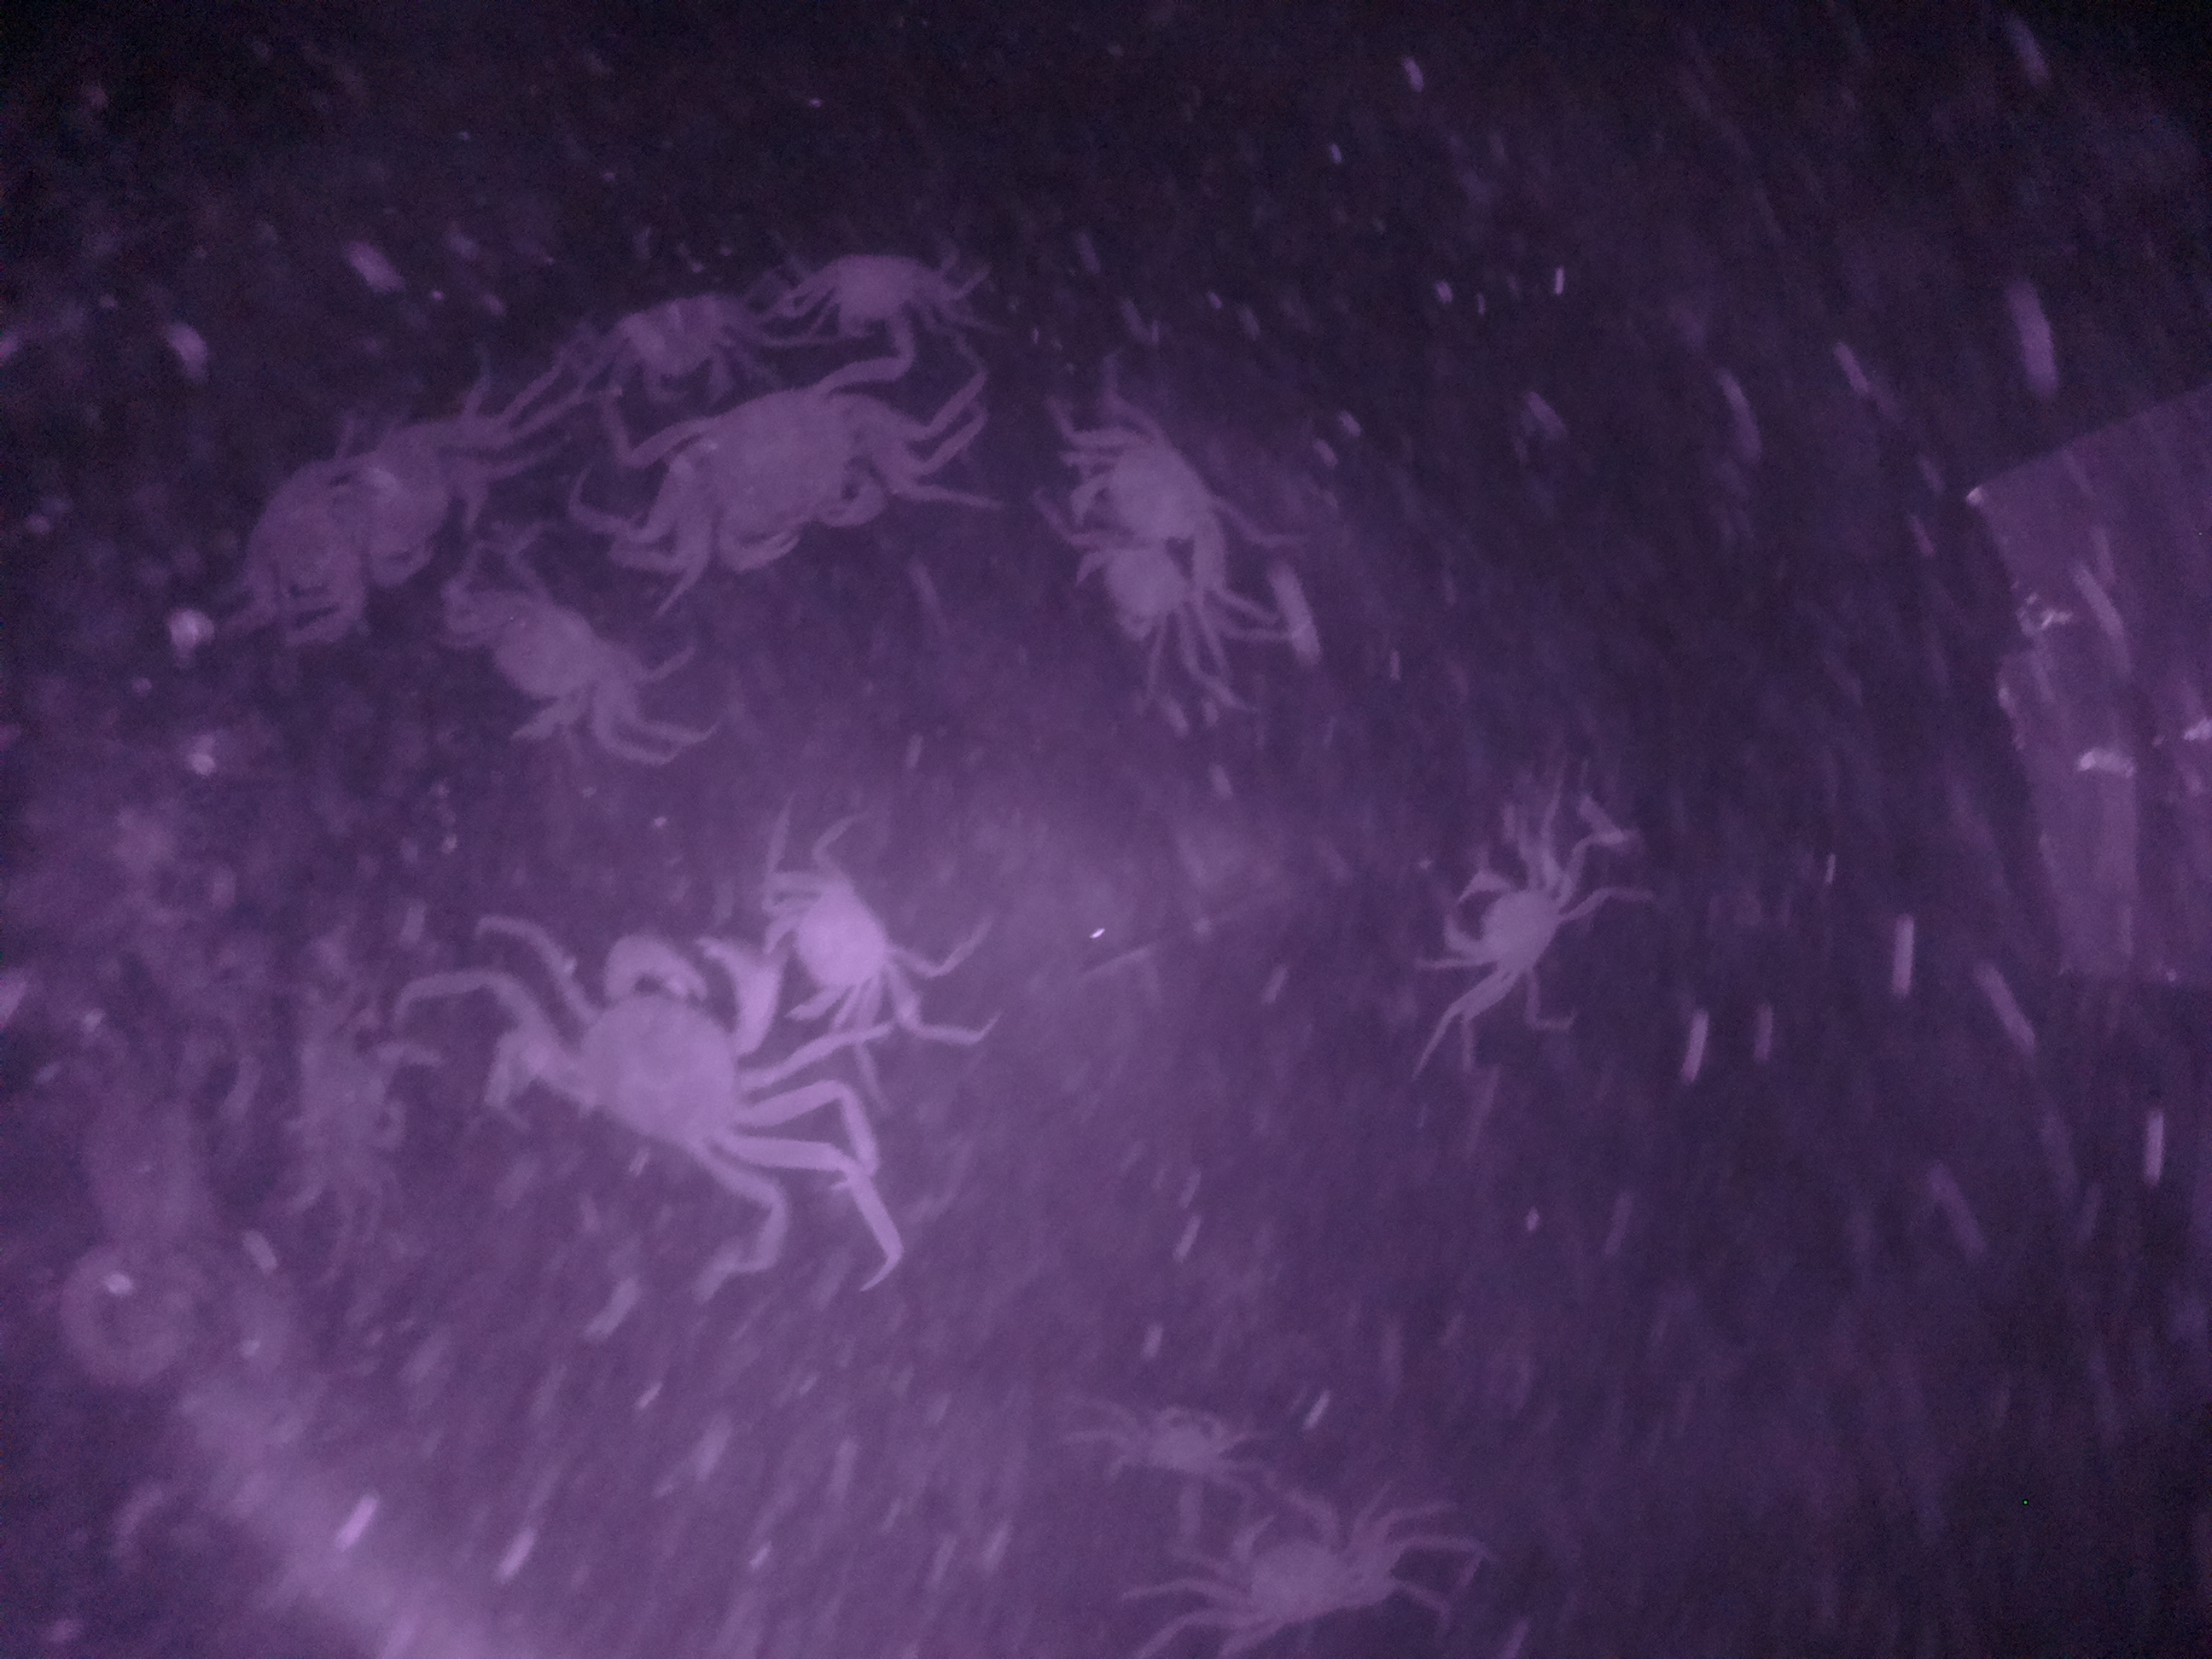Crab: (524, 927, 801, 1152), (639, 368, 899, 587), (756, 842, 932, 1046), (1209, 1483, 1404, 1659), (1080, 401, 1235, 575), (1433, 852, 1585, 1011)
